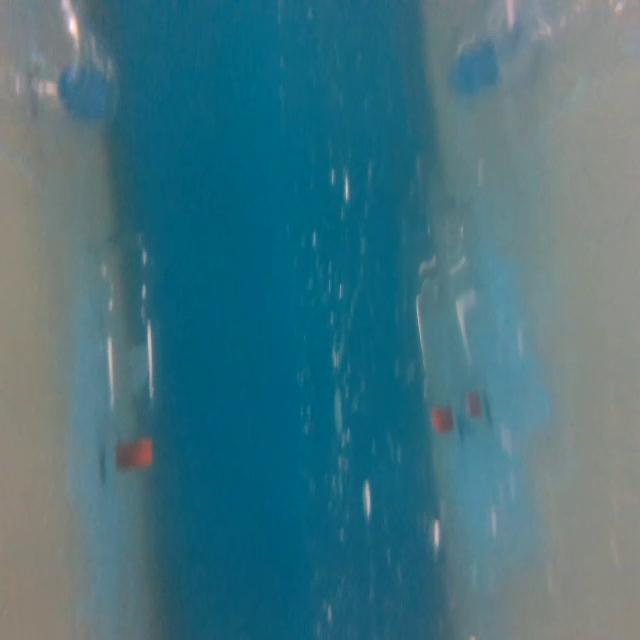plastic bottle: (92, 220, 175, 482)
